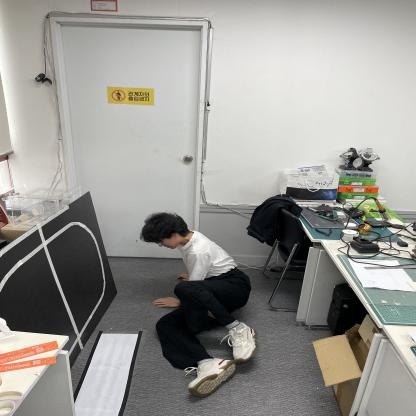fall: (132, 210, 260, 398)
